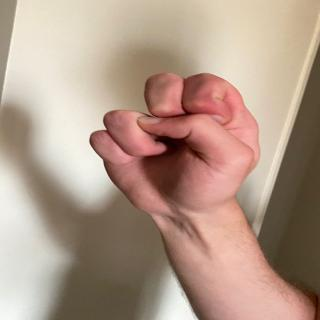QAAF: (78, 61, 263, 206)
